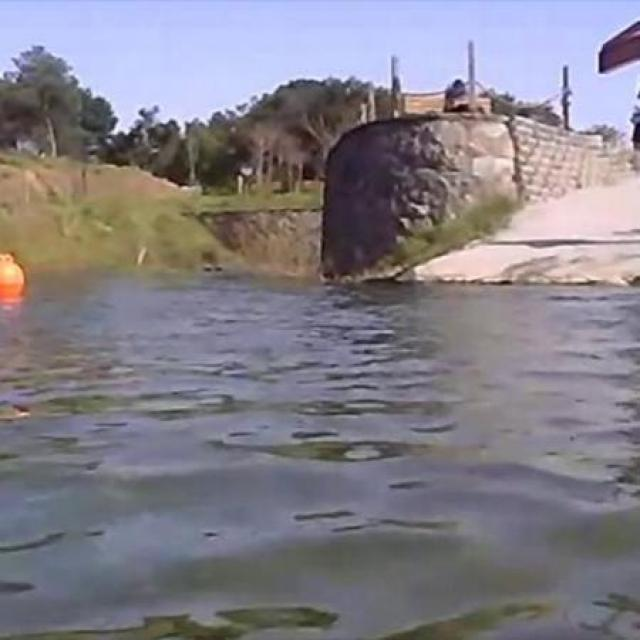buoy: (0, 253, 27, 305)
